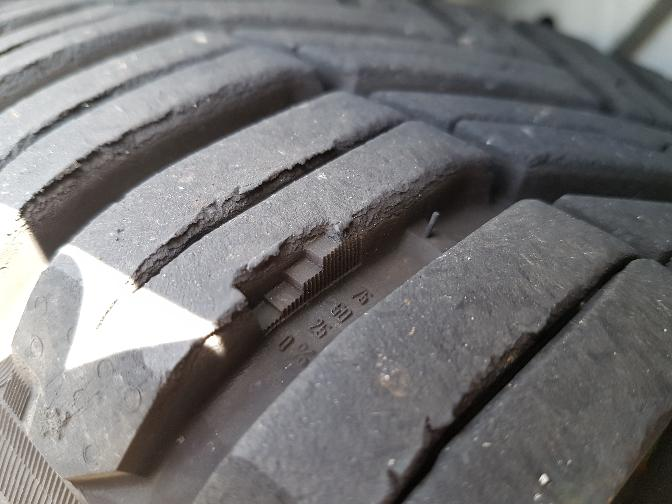temoin:90: (220, 203, 369, 341)
